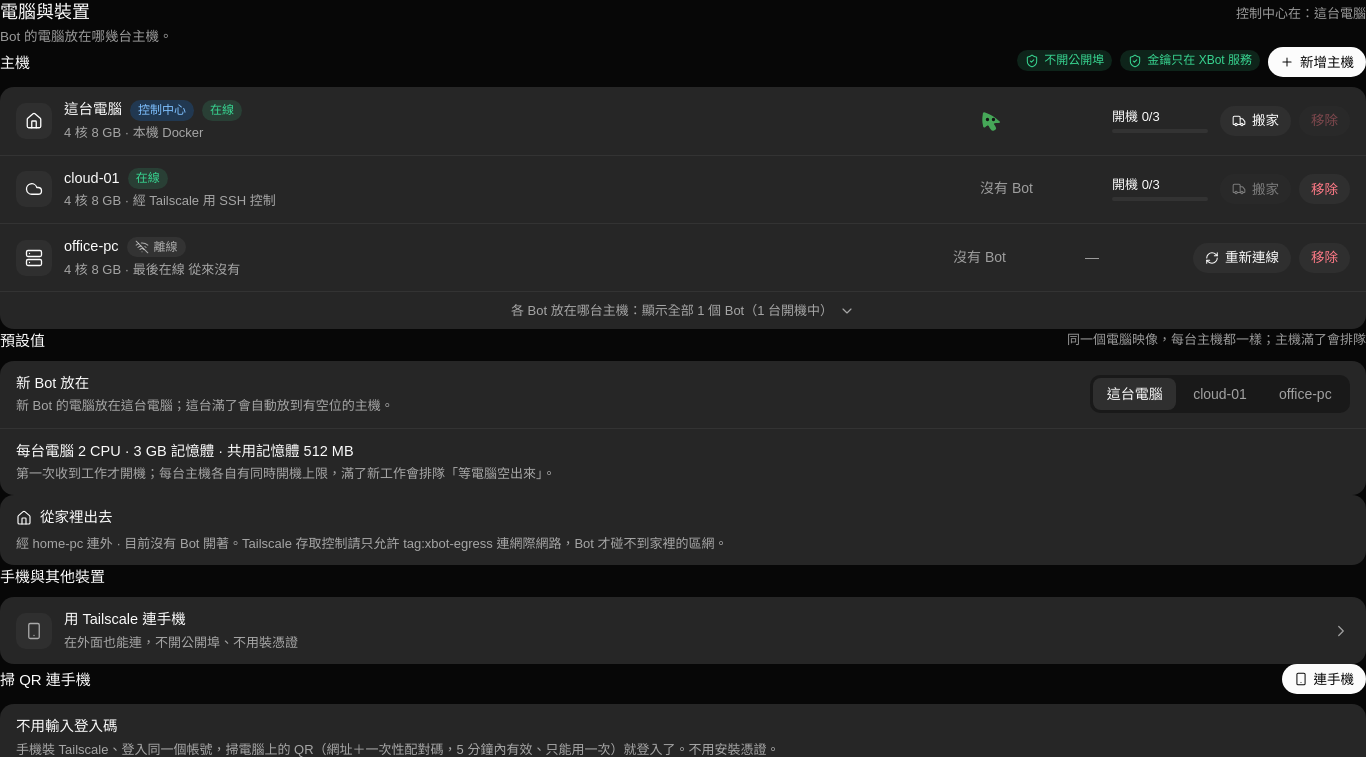
Test case: 主機清單「搬家」（J06、16.1a）：選要搬去的主機，全部搬過去，進度顯示在搬家區
The width and height of the screenshot is (1366, 757).
Check: the button "搬家" in the row of "4 核 8 GB · 經 Tailscale 用 SSH 控制" is disabled, box [1220,174,1291,204]
Click the button "搬家" in the row of "4 核 8 GB · 本機 Docker" at (1256, 121), box [1220,106,1291,136]
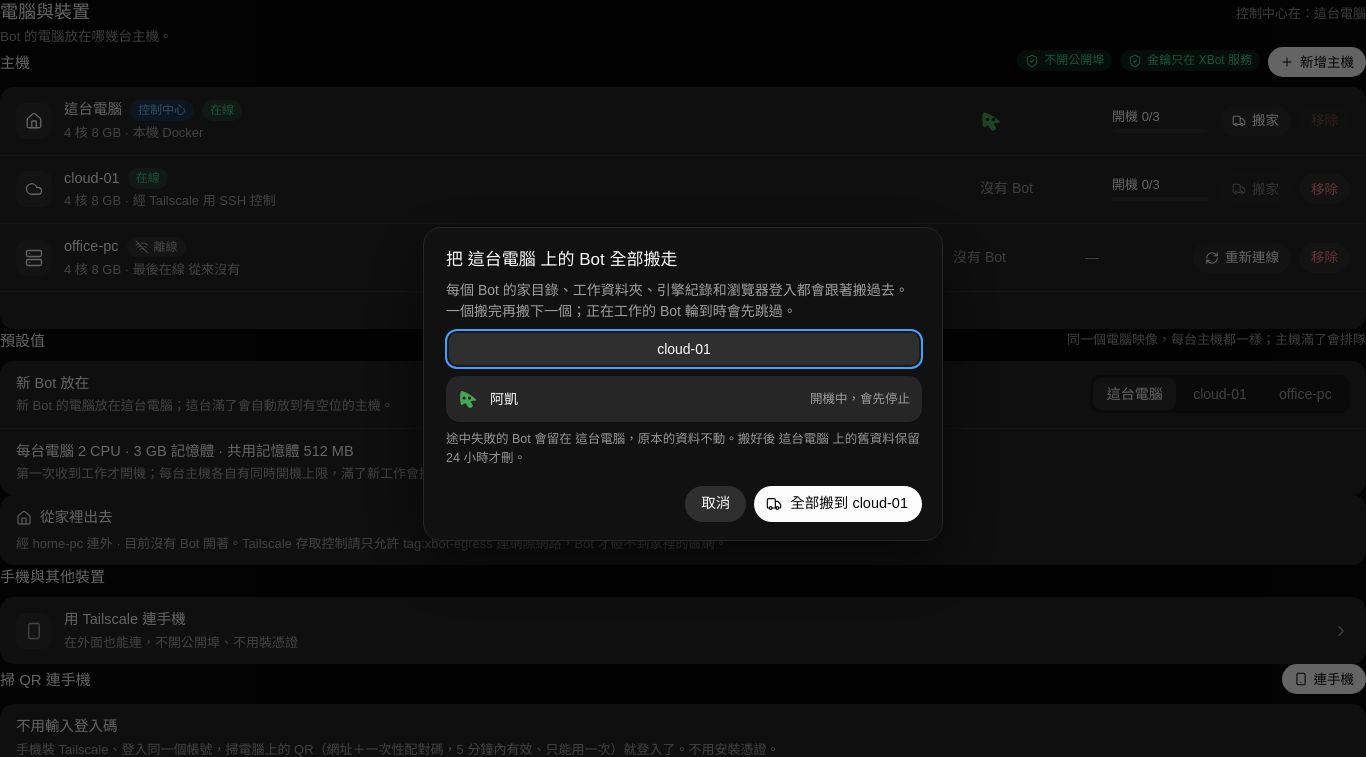
Check: the heading "把 這台電腦 上的 Bot 全部搬走" is shown, box [446,250,677,269]
Check: the text "阿凱" is shown, box [490,391,518,407]
Click the button "全部搬到 cloud-01" at (838, 504), box [754,486,922,522]
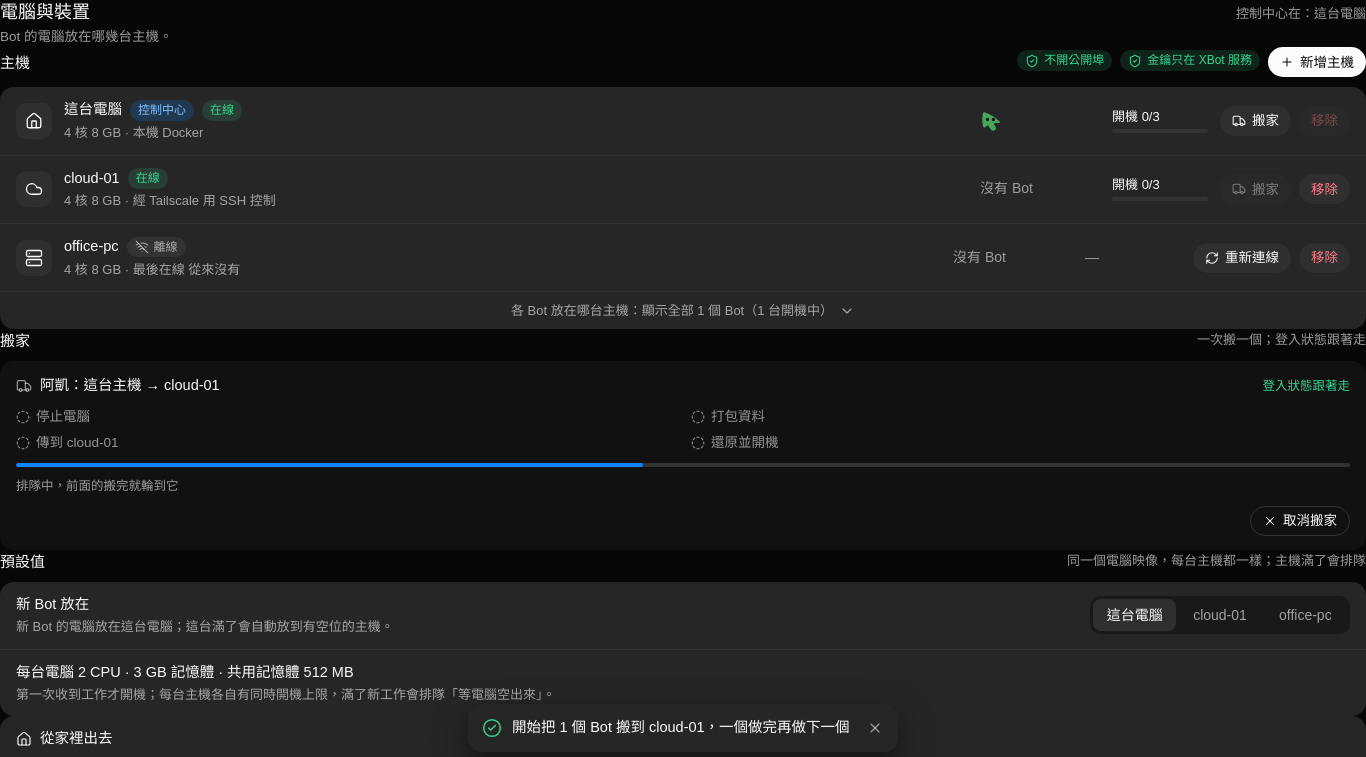
Check: the text "從家裡出去" is shown, box [16,728,112,749]
Check: the element with test id "moves" is shown, box [0,361,1365,550]
